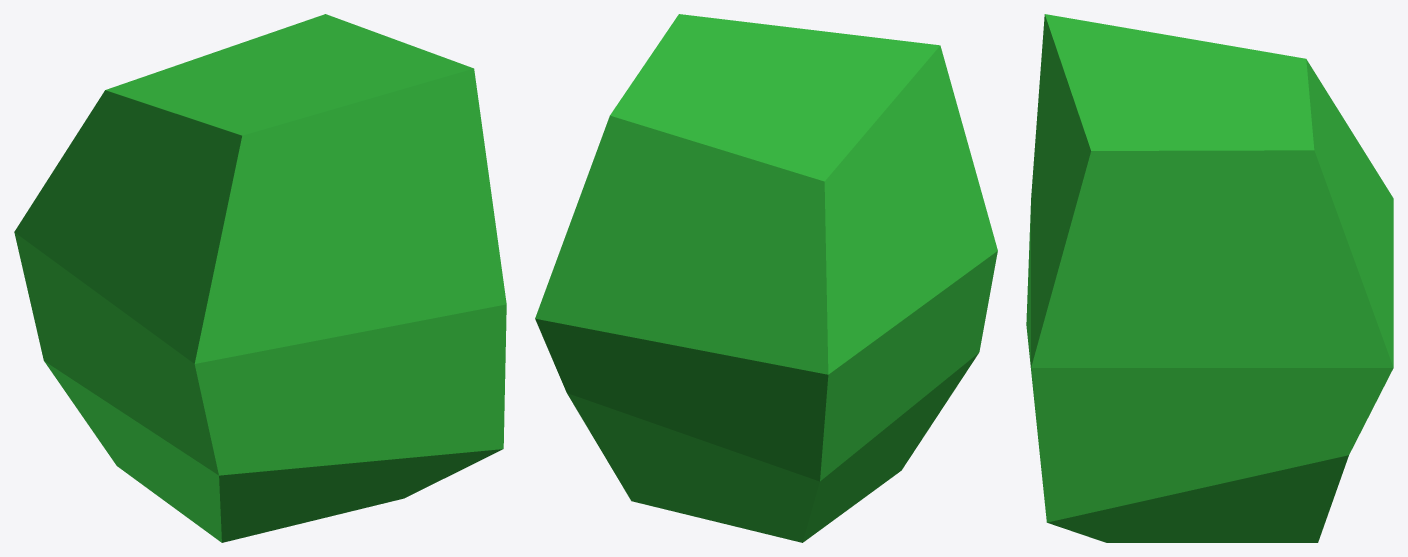
Rendered from Tree_leaves_prototype.fbx.
3 views of the same model, side by side, from view 1: azimuth 30°, elevation 25°; view 2: azimuth 150°, elevation 25°; view 3: azimuth 270°, elevation 25° (orthographic). The views are drawn at different scales.
Visible parts, largest first — view 1: Cube.002; view 2: Cube.002; view 3: Cube.002.
Boxes of the visible parts, left/top/right/bottom form: Cube.002: left=14, top=14, right=506, bottom=542; Cube.002: left=535, top=14, right=997, bottom=542; Cube.002: left=1026, top=14, right=1393, bottom=542.
Bounding box in the file's own units: 126 × 126 × 165.
